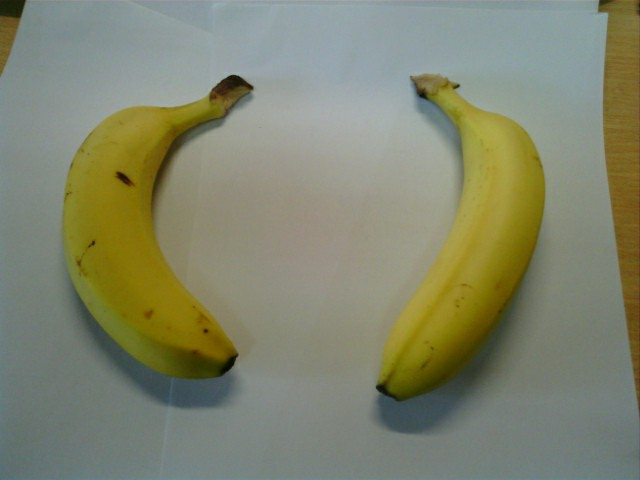fresh_banana: (380, 73, 548, 398)
normal_banana: (64, 81, 240, 383)
